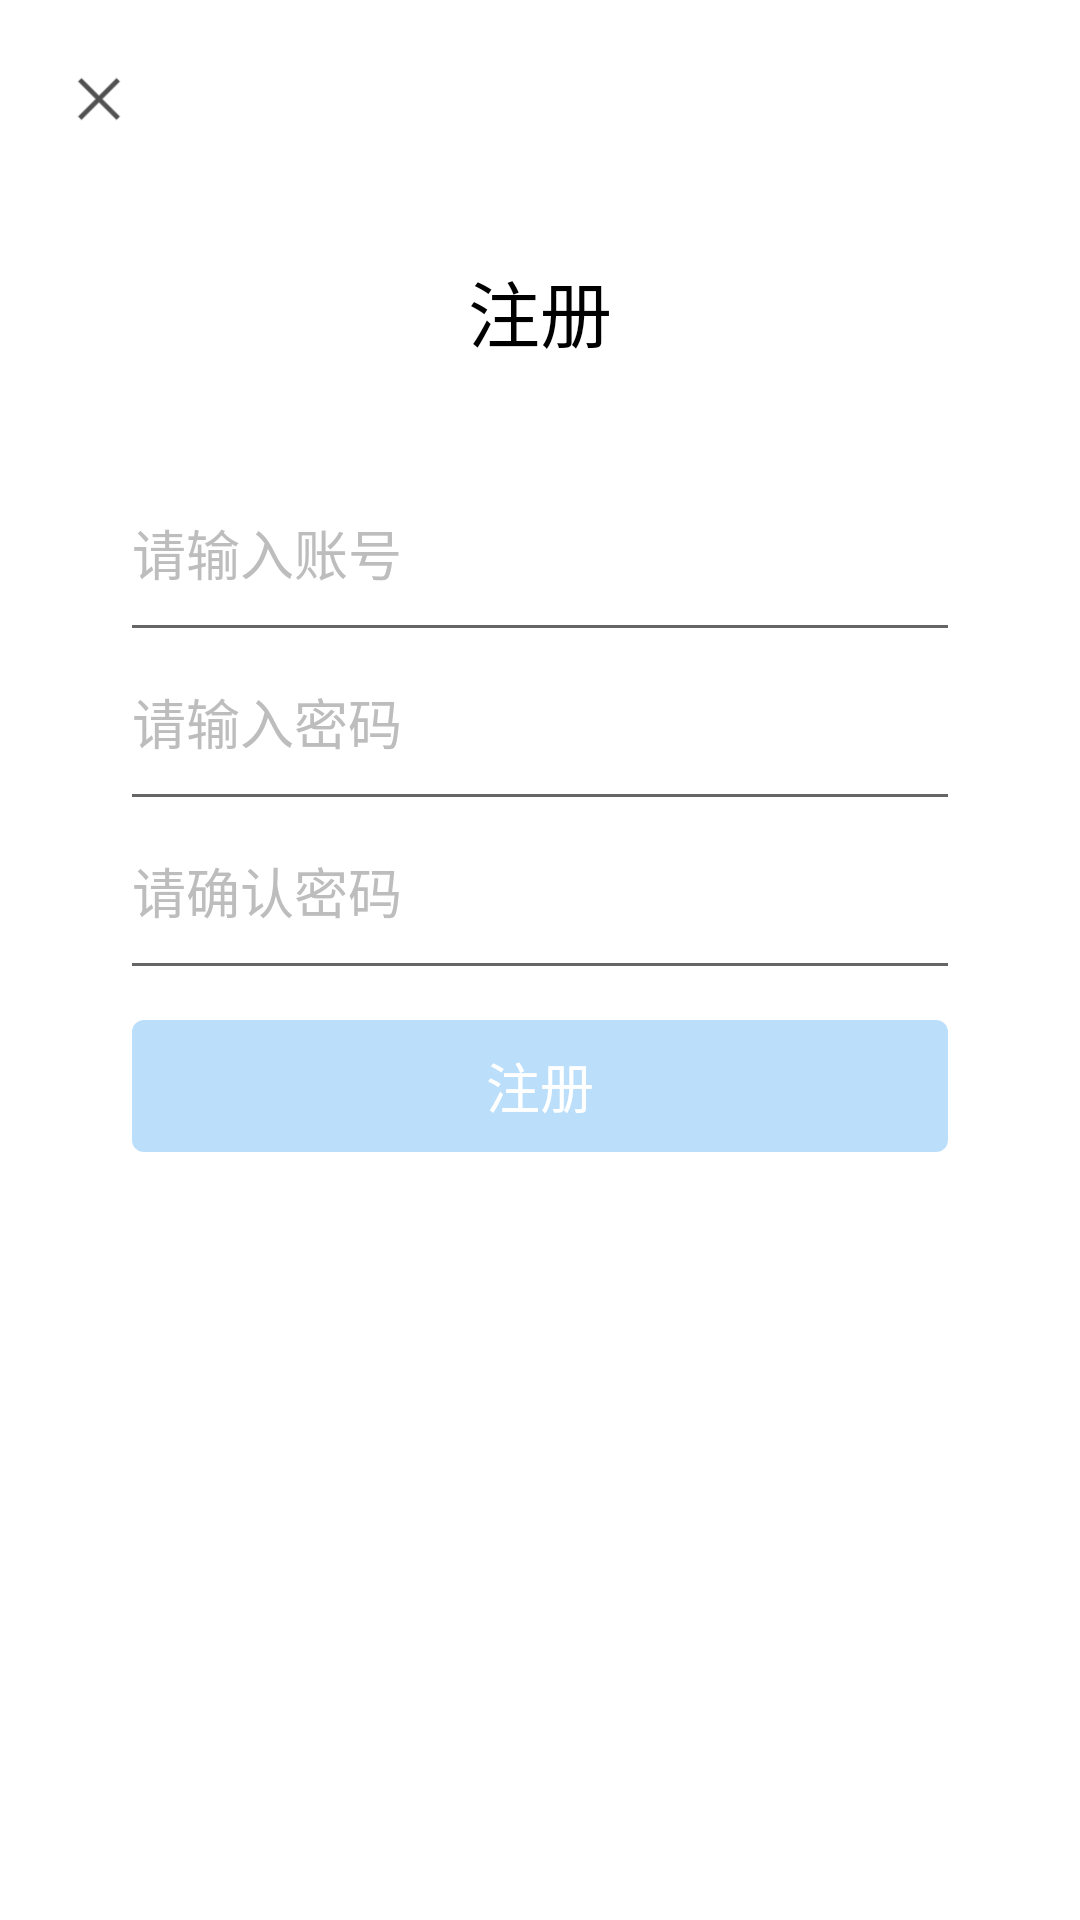

Named icons in this screenshot (1080x1920) and their bounding boxes, detection(x1, y1, x2, y2):
cha: detection(78, 78, 120, 120)
